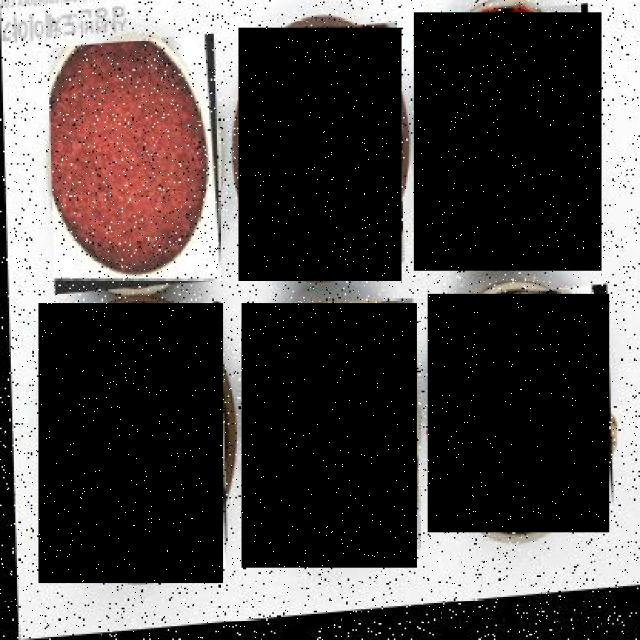Chili_Pepper: (415, 14, 603, 272), (240, 28, 402, 280)
Chili_Powder: (46, 36, 219, 296)
Garlic: (241, 304, 417, 568)
Ginger: (427, 294, 610, 532)
Onion: (39, 304, 223, 584)
